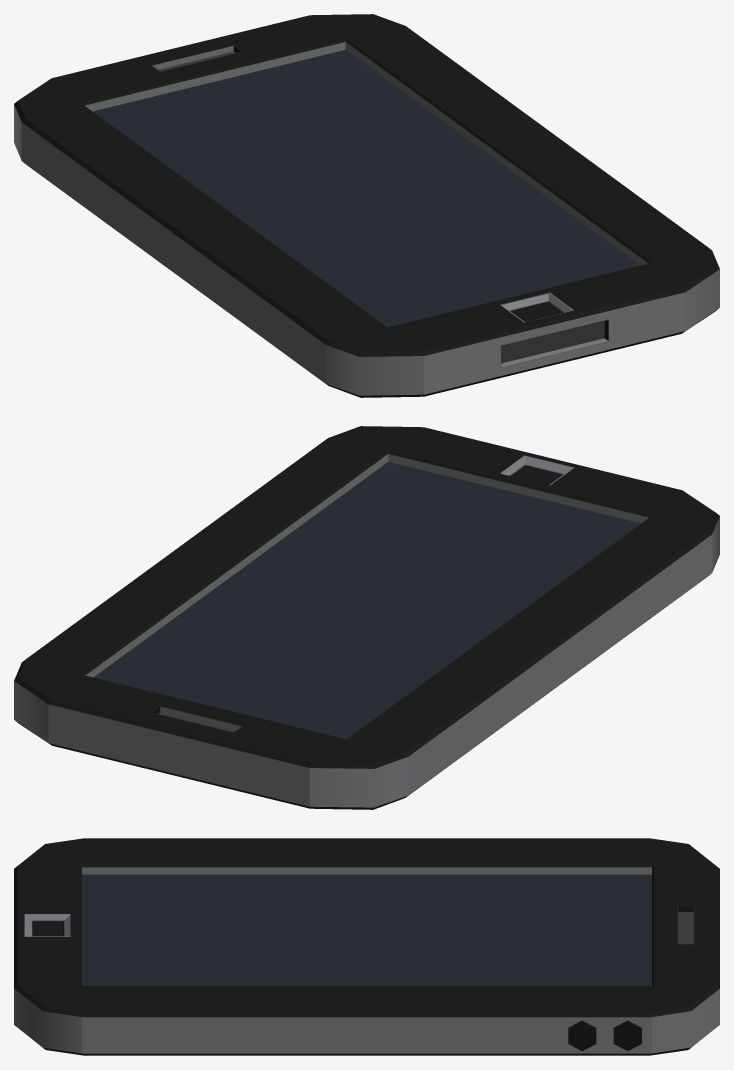
Rendered from ipad.fbx.
3 views of the same model, one above another, from view 1: azimuth 30°, elevation 25°; view 2: azimuth 150°, elevation 25°; view 3: azimuth 270°, elevation 25° (orthographic). The views are drawn at different scales.
Visible parts, largest first — view 1: pCube3; view 2: pCube3; view 3: pCube3.
Part boxes in pixels (<box>): pCube3: <box>14,14,719,397</box>; pCube3: <box>14,426,719,809</box>; pCube3: <box>14,838,719,1055</box>.
Size of the model in its own units: 2.02 by 0.2283 by 3.37.
Materials: 1 (1 with a texture image).
